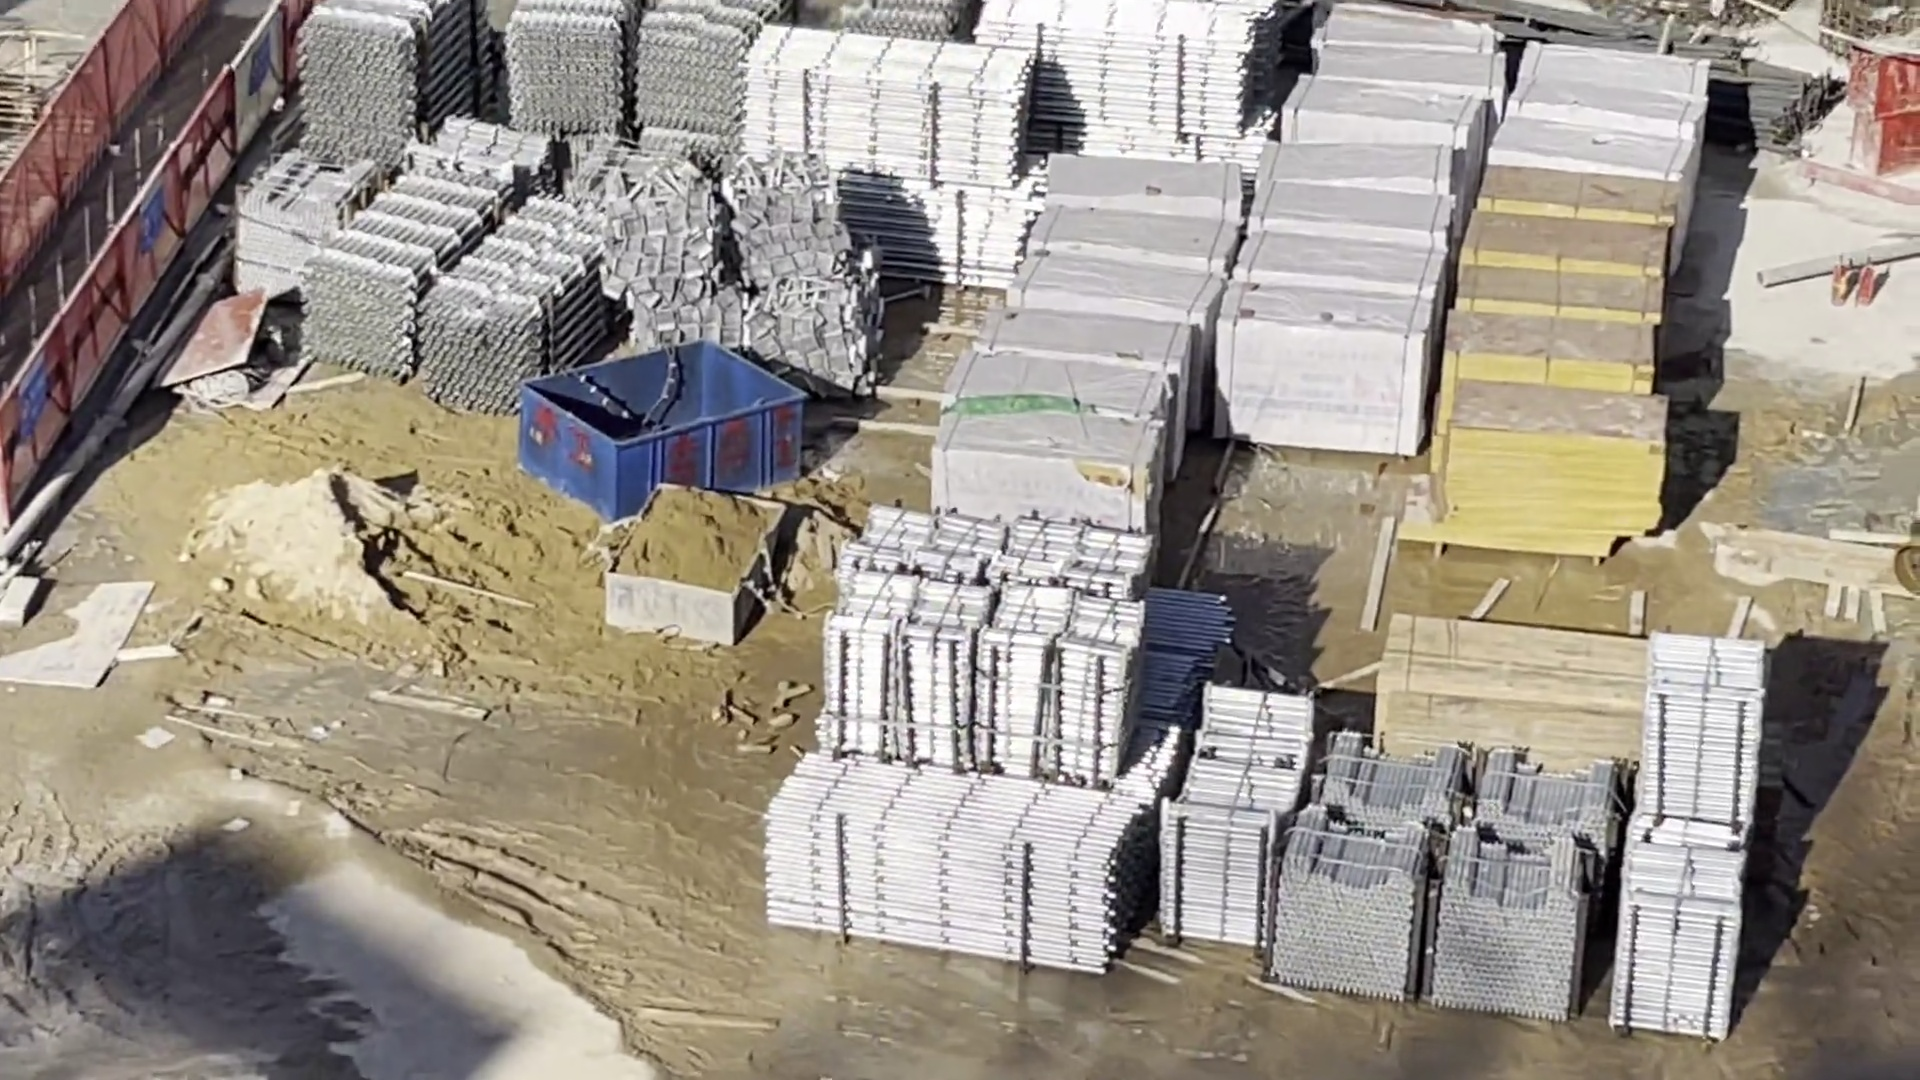board: (1436, 157, 1662, 551), (1378, 611, 1642, 760)
fence: (4, 3, 285, 488)
hopper: (524, 342, 800, 524), (603, 483, 789, 649)
rebar: (1519, 7, 1836, 156)
scaffold: (1269, 742, 1613, 1018), (823, 512, 1146, 777), (761, 760, 1149, 977), (746, 22, 1029, 281), (305, 179, 608, 410), (1631, 638, 1751, 1044), (977, 3, 1270, 166), (501, 1, 785, 152), (1155, 676, 1308, 943), (295, 3, 505, 146)
slogan: (18, 353, 46, 435), (138, 179, 162, 261)
